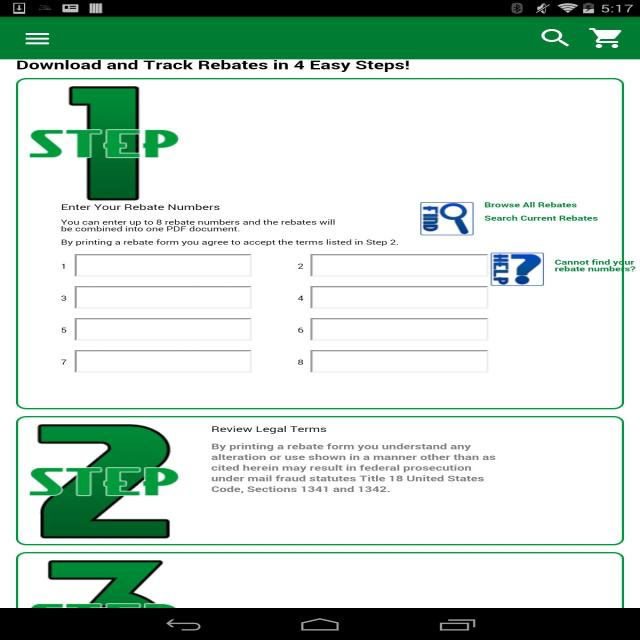button: (583, 26, 624, 50), (534, 27, 576, 49), (21, 28, 55, 49)
field: (314, 254, 488, 279), (77, 253, 250, 278), (312, 318, 488, 341), (76, 350, 252, 372), (312, 350, 486, 372), (76, 287, 251, 308), (312, 288, 486, 308), (76, 318, 250, 338)
heading: (16, 60, 414, 74), (211, 424, 329, 435)
image: (28, 422, 175, 540), (34, 81, 178, 200), (39, 558, 174, 610), (490, 251, 546, 287), (420, 202, 474, 235)
label: (294, 291, 308, 304), (293, 324, 308, 336), (57, 323, 70, 335), (58, 260, 70, 272), (293, 259, 304, 272), (56, 292, 69, 303), (295, 356, 306, 368), (58, 356, 68, 367)
text: (209, 441, 500, 498), (59, 203, 396, 248), (481, 199, 607, 225), (551, 256, 637, 276)
